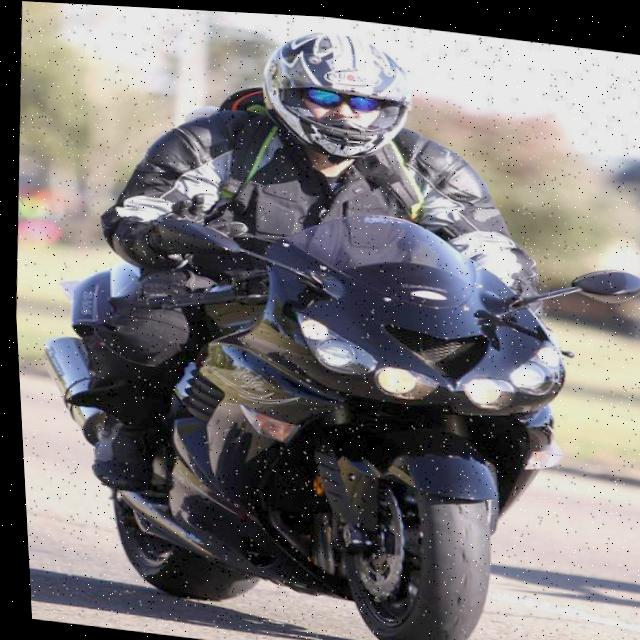motorcycle: (27, 166, 640, 640)
